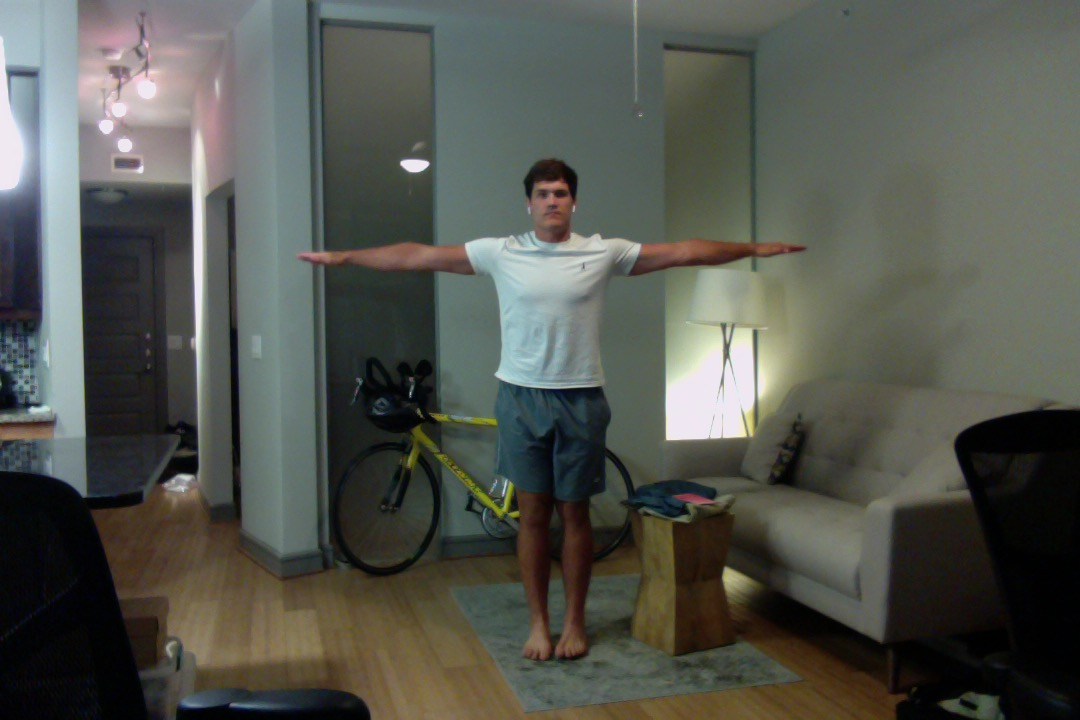T: (295, 152, 812, 671)
